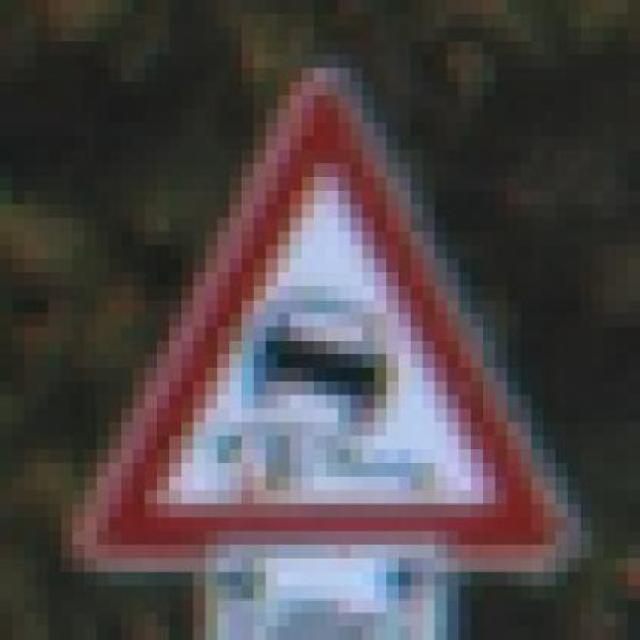Slippery Road Ahead: (72, 68, 592, 586)
